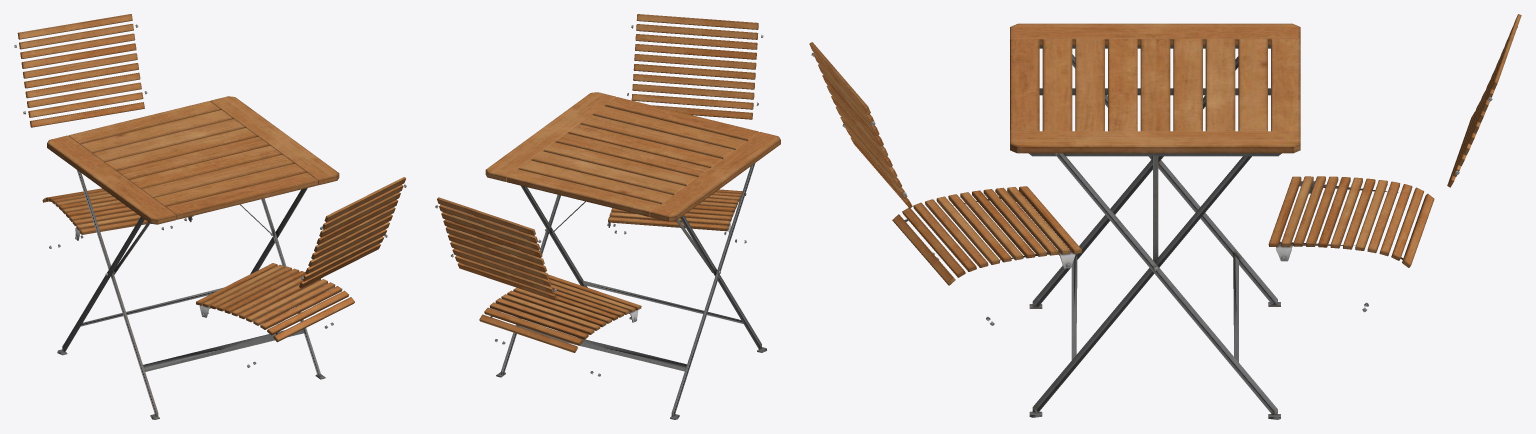
The model's file is cafe_table_set.glb.
3 views of the same model, side by side, from view 1: azimuth 30°, elevation 25°; view 2: azimuth 150°, elevation 25°; view 3: azimuth 270°, elevation 25° (orthographic). The views are drawn at different scales.
Visible parts, largest first — view 1: outdoor_table_chair_set_01_table, outdoor_table_chair_set_01_chair_01; view 2: outdoor_table_chair_set_01_table, outdoor_table_chair_set_01_chair_01; view 3: outdoor_table_chair_set_01_table, outdoor_table_chair_set_01_chair_01.
Part boxes in pixels (x1=…): outdoor_table_chair_set_01_table: x1=47, y1=96, x2=339, y2=419; outdoor_table_chair_set_01_chair_01: x1=14, y1=14, x2=406, y2=367; outdoor_table_chair_set_01_table: x1=485, y1=92, x2=780, y2=419; outdoor_table_chair_set_01_chair_01: x1=435, y1=14, x2=763, y2=376; outdoor_table_chair_set_01_table: x1=1010, y1=23, x2=1300, y2=419; outdoor_table_chair_set_01_chair_01: x1=809, y1=14, x2=1521, y2=325.
Size of the model in its own units: 0.7404 by 0.8468 by 1.7.
Materials: 2 (2 with a texture image).
